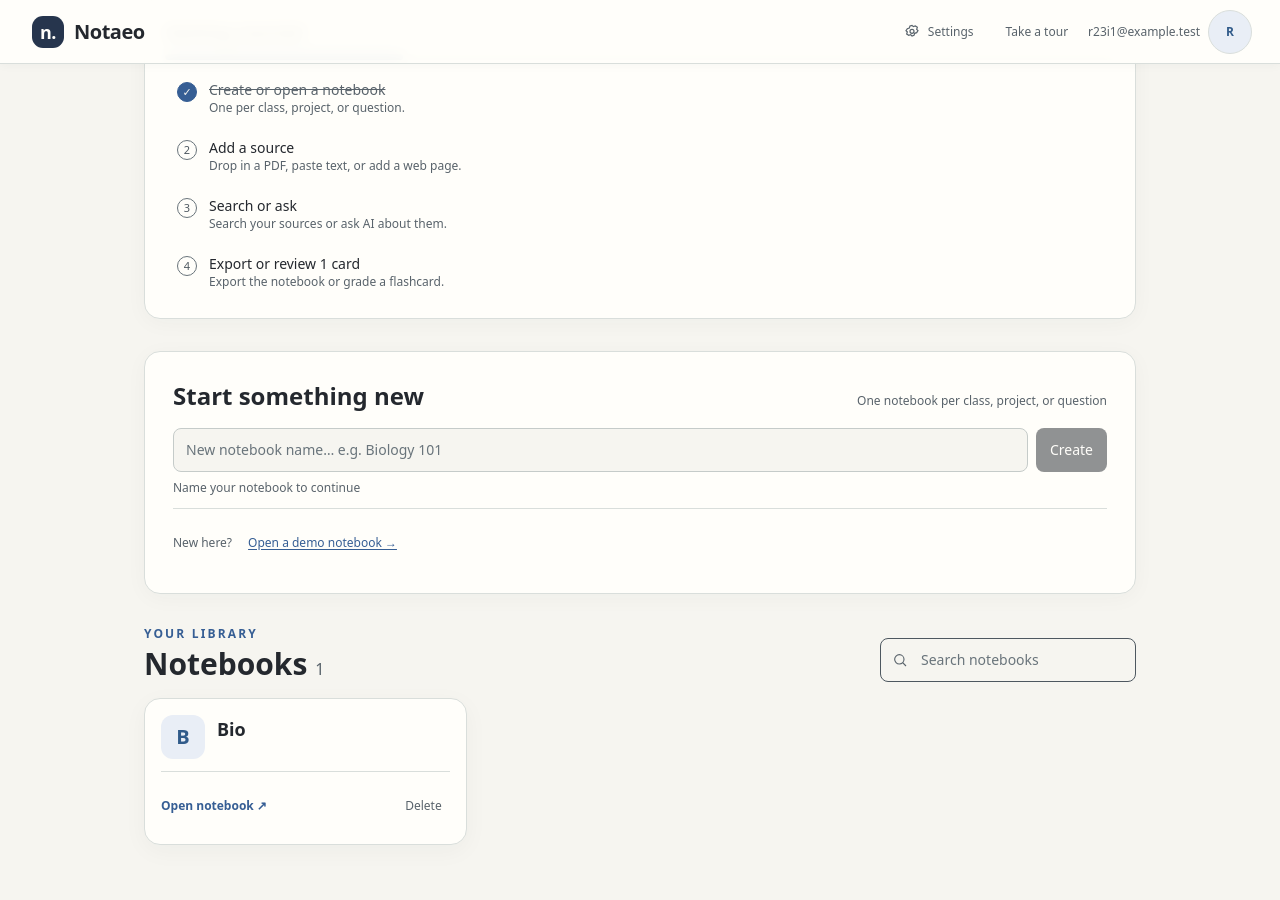
Scenario: all rail view buttons are tabbable
(page scrolled)
What coordinates should you click on to do the following:
click the button with aria-label "Open Bio"
I would click on:
 (183, 737)
Its box is top-left (161, 715), bottom-right (450, 759).
(page scrolled)
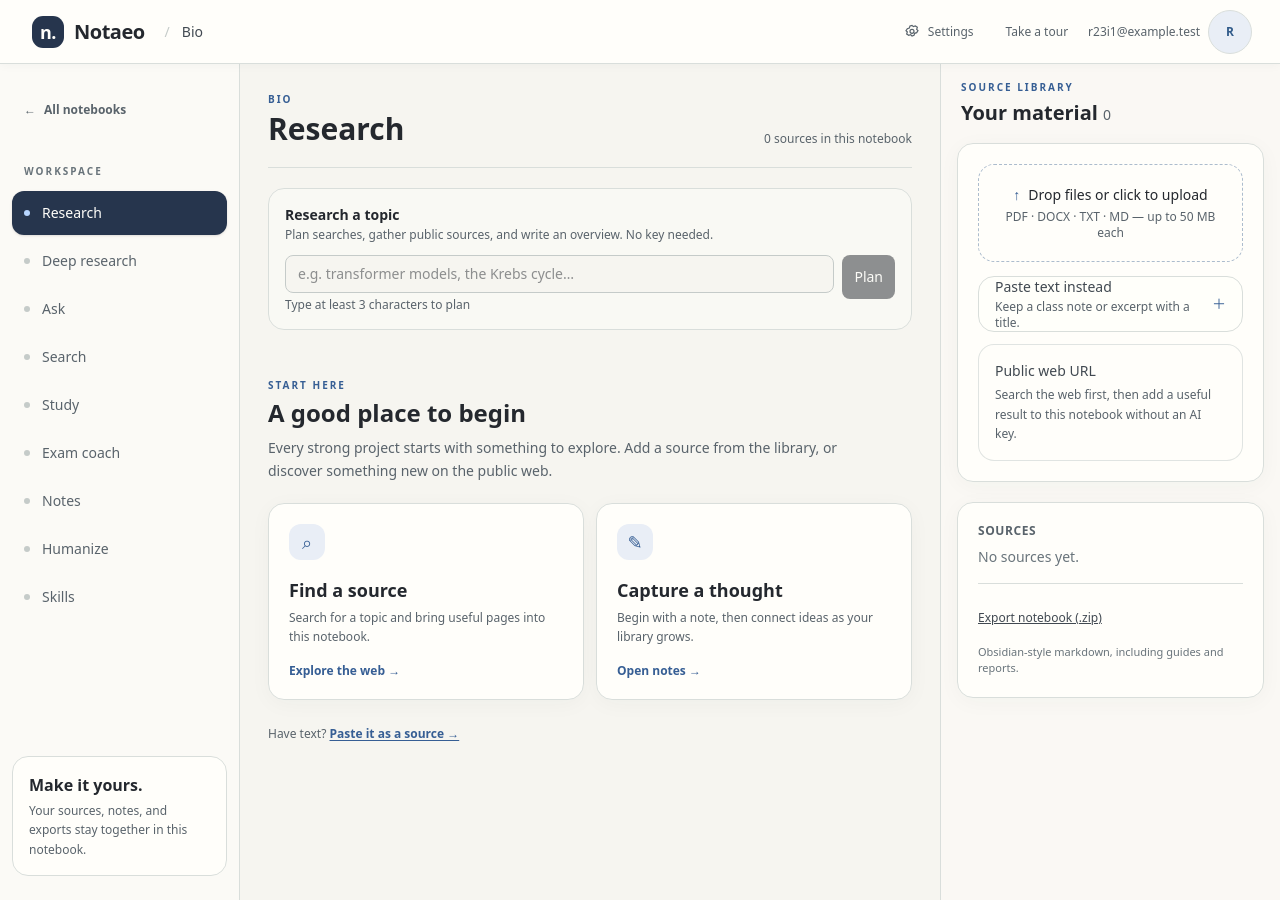
Expected: the navigation bar named "Workspace tools" is shown, top-left (0, 64), bottom-right (240, 899)
